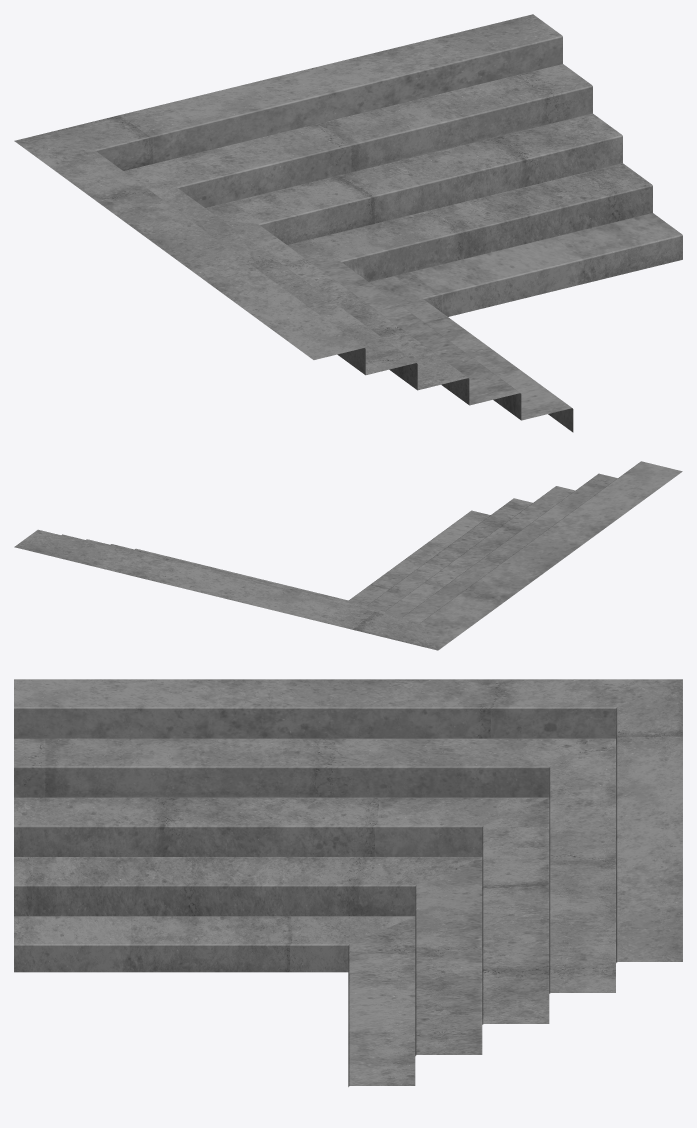
Rendered from SM_Steps_05.fbx.
The picture shows the model from 3 angles, top to bottom: view 1: azimuth 30°, elevation 25°; view 2: azimuth 150°, elevation 25°; view 3: azimuth 270°, elevation 25°; orthographic projection. The views are drawn at different scales.
Visible parts, largest first — view 1: SM_Steps_07; view 2: SM_Steps_07; view 3: SM_Steps_07.
Part boxes in pixels (box(x1,y1,x2,y2)): SM_Steps_07: box(14, 14, 682, 432); SM_Steps_07: box(14, 461, 682, 650); SM_Steps_07: box(14, 679, 682, 1086).
Size of the model in its own units: 400 by 100 by 400.
